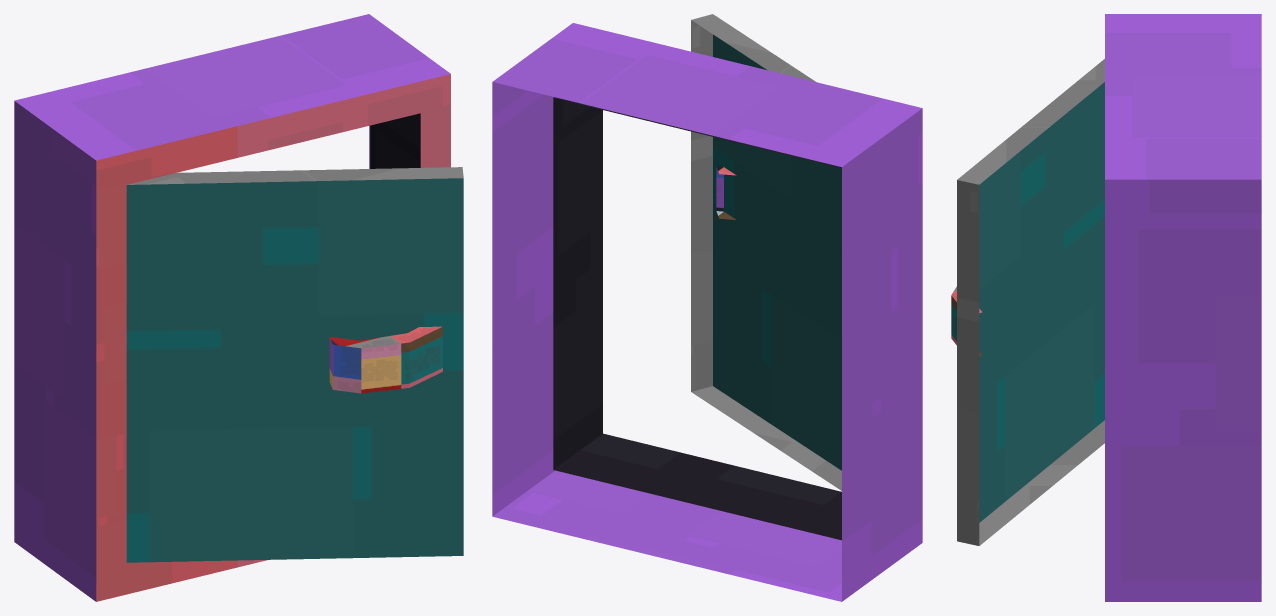
The model's file is wallbox.fbx.
3 renders of one model, left to right at view 1: azimuth 30°, elevation 25°; view 2: azimuth 150°, elevation 25°; view 3: azimuth 270°, elevation 25°, orthographic. The views are drawn at different scales.
Parts seen in each view (by area): view 1: polySurface62; view 2: polySurface62; view 3: polySurface62.
Part boxes in pixels (left/top/right/bottom): polySurface62: left=14, top=14, right=463, bottom=601; polySurface62: left=492, top=14, right=922, bottom=601; polySurface62: left=951, top=14, right=1261, bottom=601.
Bounding box in the file's own units: 81.73 × 97.12 × 64.71.
